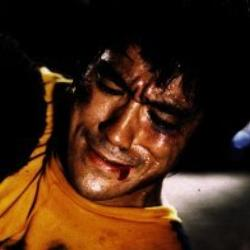face: (76, 52, 185, 190)
